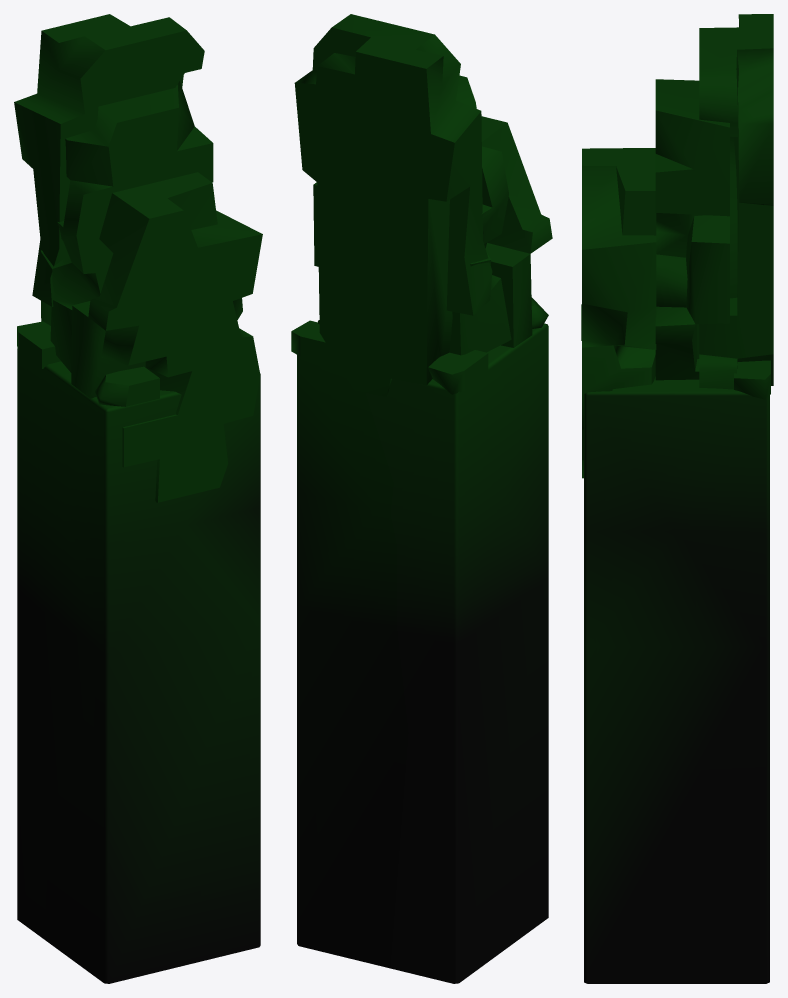
The model's file is DBK_Brick_Pillar_End_A.fbx.
The picture shows the model from 3 angles, left to right: view 1: azimuth 30°, elevation 25°; view 2: azimuth 150°, elevation 25°; view 3: azimuth 270°, elevation 25°; orthographic projection. The views are drawn at different scales.
Parts seen in each view (by area): view 1: DBK_Brick_Pillar_End_A; view 2: DBK_Brick_Pillar_End_A; view 3: DBK_Brick_Pillar_End_A.
Boxes of the visible parts, x1,y1,x2,y2 form: DBK_Brick_Pillar_End_A: (14,14,262,983); DBK_Brick_Pillar_End_A: (291,14,552,983); DBK_Brick_Pillar_End_A: (581,14,773,983).
Bounding box in the file's own units: 52.55 × 269 × 51.79.
